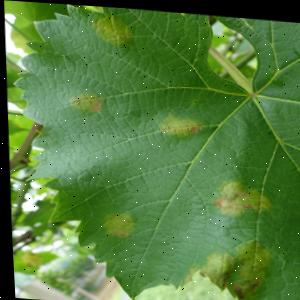Folha: (3, 0, 300, 300)
Fungo: (191, 230, 269, 300), (208, 175, 270, 215), (192, 246, 233, 289), (90, 11, 133, 45), (155, 111, 201, 136), (96, 208, 133, 237), (64, 89, 100, 112), (16, 250, 40, 267)
